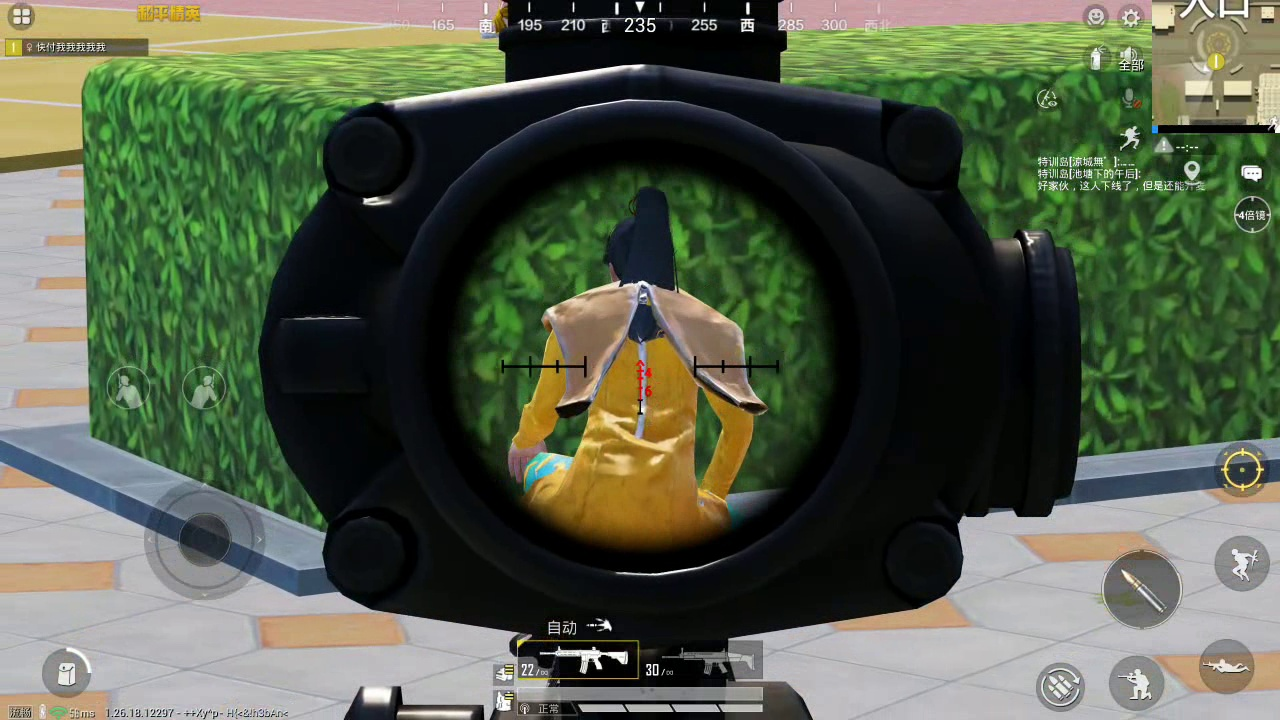enemy: (516, 193, 734, 537)
